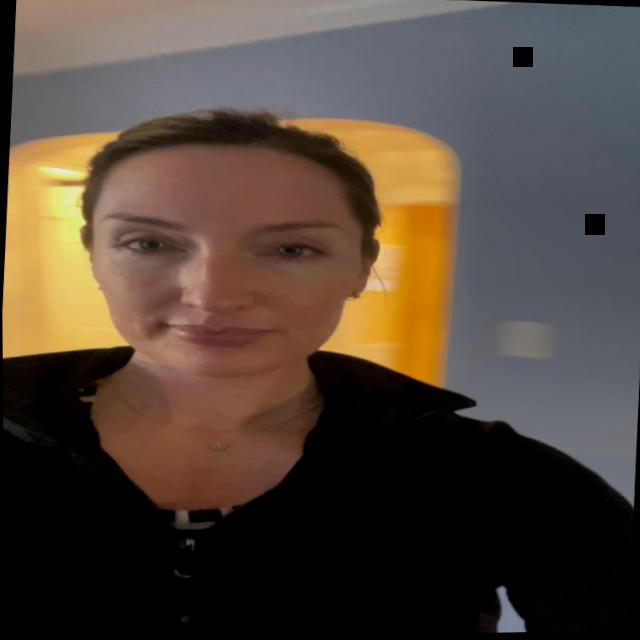NO-Mask: (63, 126, 392, 420)
